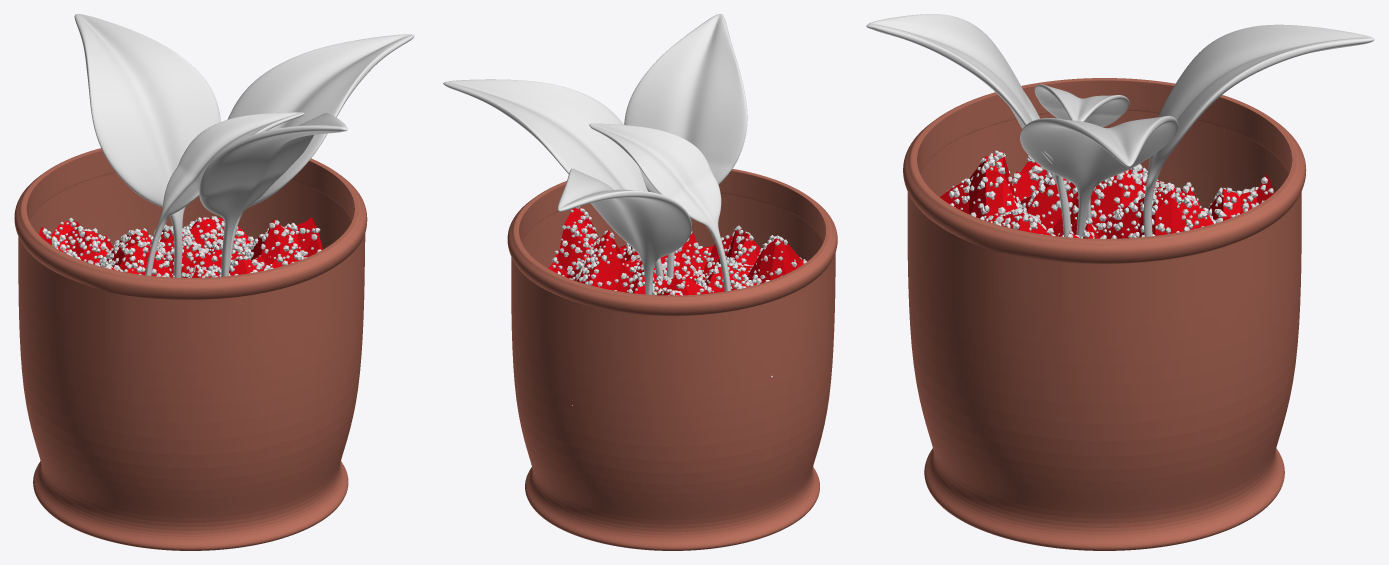
Rendered from FlowerPot.fbx.
3 views of the same model, side by side, from view 1: azimuth 30°, elevation 25°; view 2: azimuth 150°, elevation 25°; view 3: azimuth 270°, elevation 25° (orthographic). The views are drawn at different scales.
Visible parts, largest first — view 1: FlowerPot, Plant.000, Plant.001, Plant.002, DirtGround, Plant.003; view 2: FlowerPot, Plant.002, Plant.001, DirtGround, Plant.003, Plant.000; view 3: FlowerPot, DirtGround, Plant.000, Plant.001, Plant.002, Plant.003.
Part boxes in pixels (box(x1,y1,x2,y2)): FlowerPot: box(14, 148, 367, 550); Plant.000: box(74, 14, 220, 277); Plant.001: box(227, 34, 414, 269); Plant.002: box(199, 112, 347, 276); DirtGround: box(39, 217, 322, 277); Plant.003: box(145, 112, 304, 275); FlowerPot: box(507, 169, 837, 550); Plant.002: box(624, 14, 747, 277); Plant.001: box(443, 79, 663, 279); DirtGround: box(548, 207, 807, 295); Plant.003: box(589, 123, 730, 291); Plant.000: box(557, 168, 691, 294); FlowerPot: box(903, 78, 1306, 550); DirtGround: box(940, 151, 1274, 238); Plant.000: box(1143, 24, 1374, 236); Plant.001: box(1020, 116, 1178, 237); Plant.002: box(866, 14, 1071, 237); Plant.003: box(1034, 84, 1129, 224).
Size of what is drawn, in the model's own units: 257 by 267 by 256.
